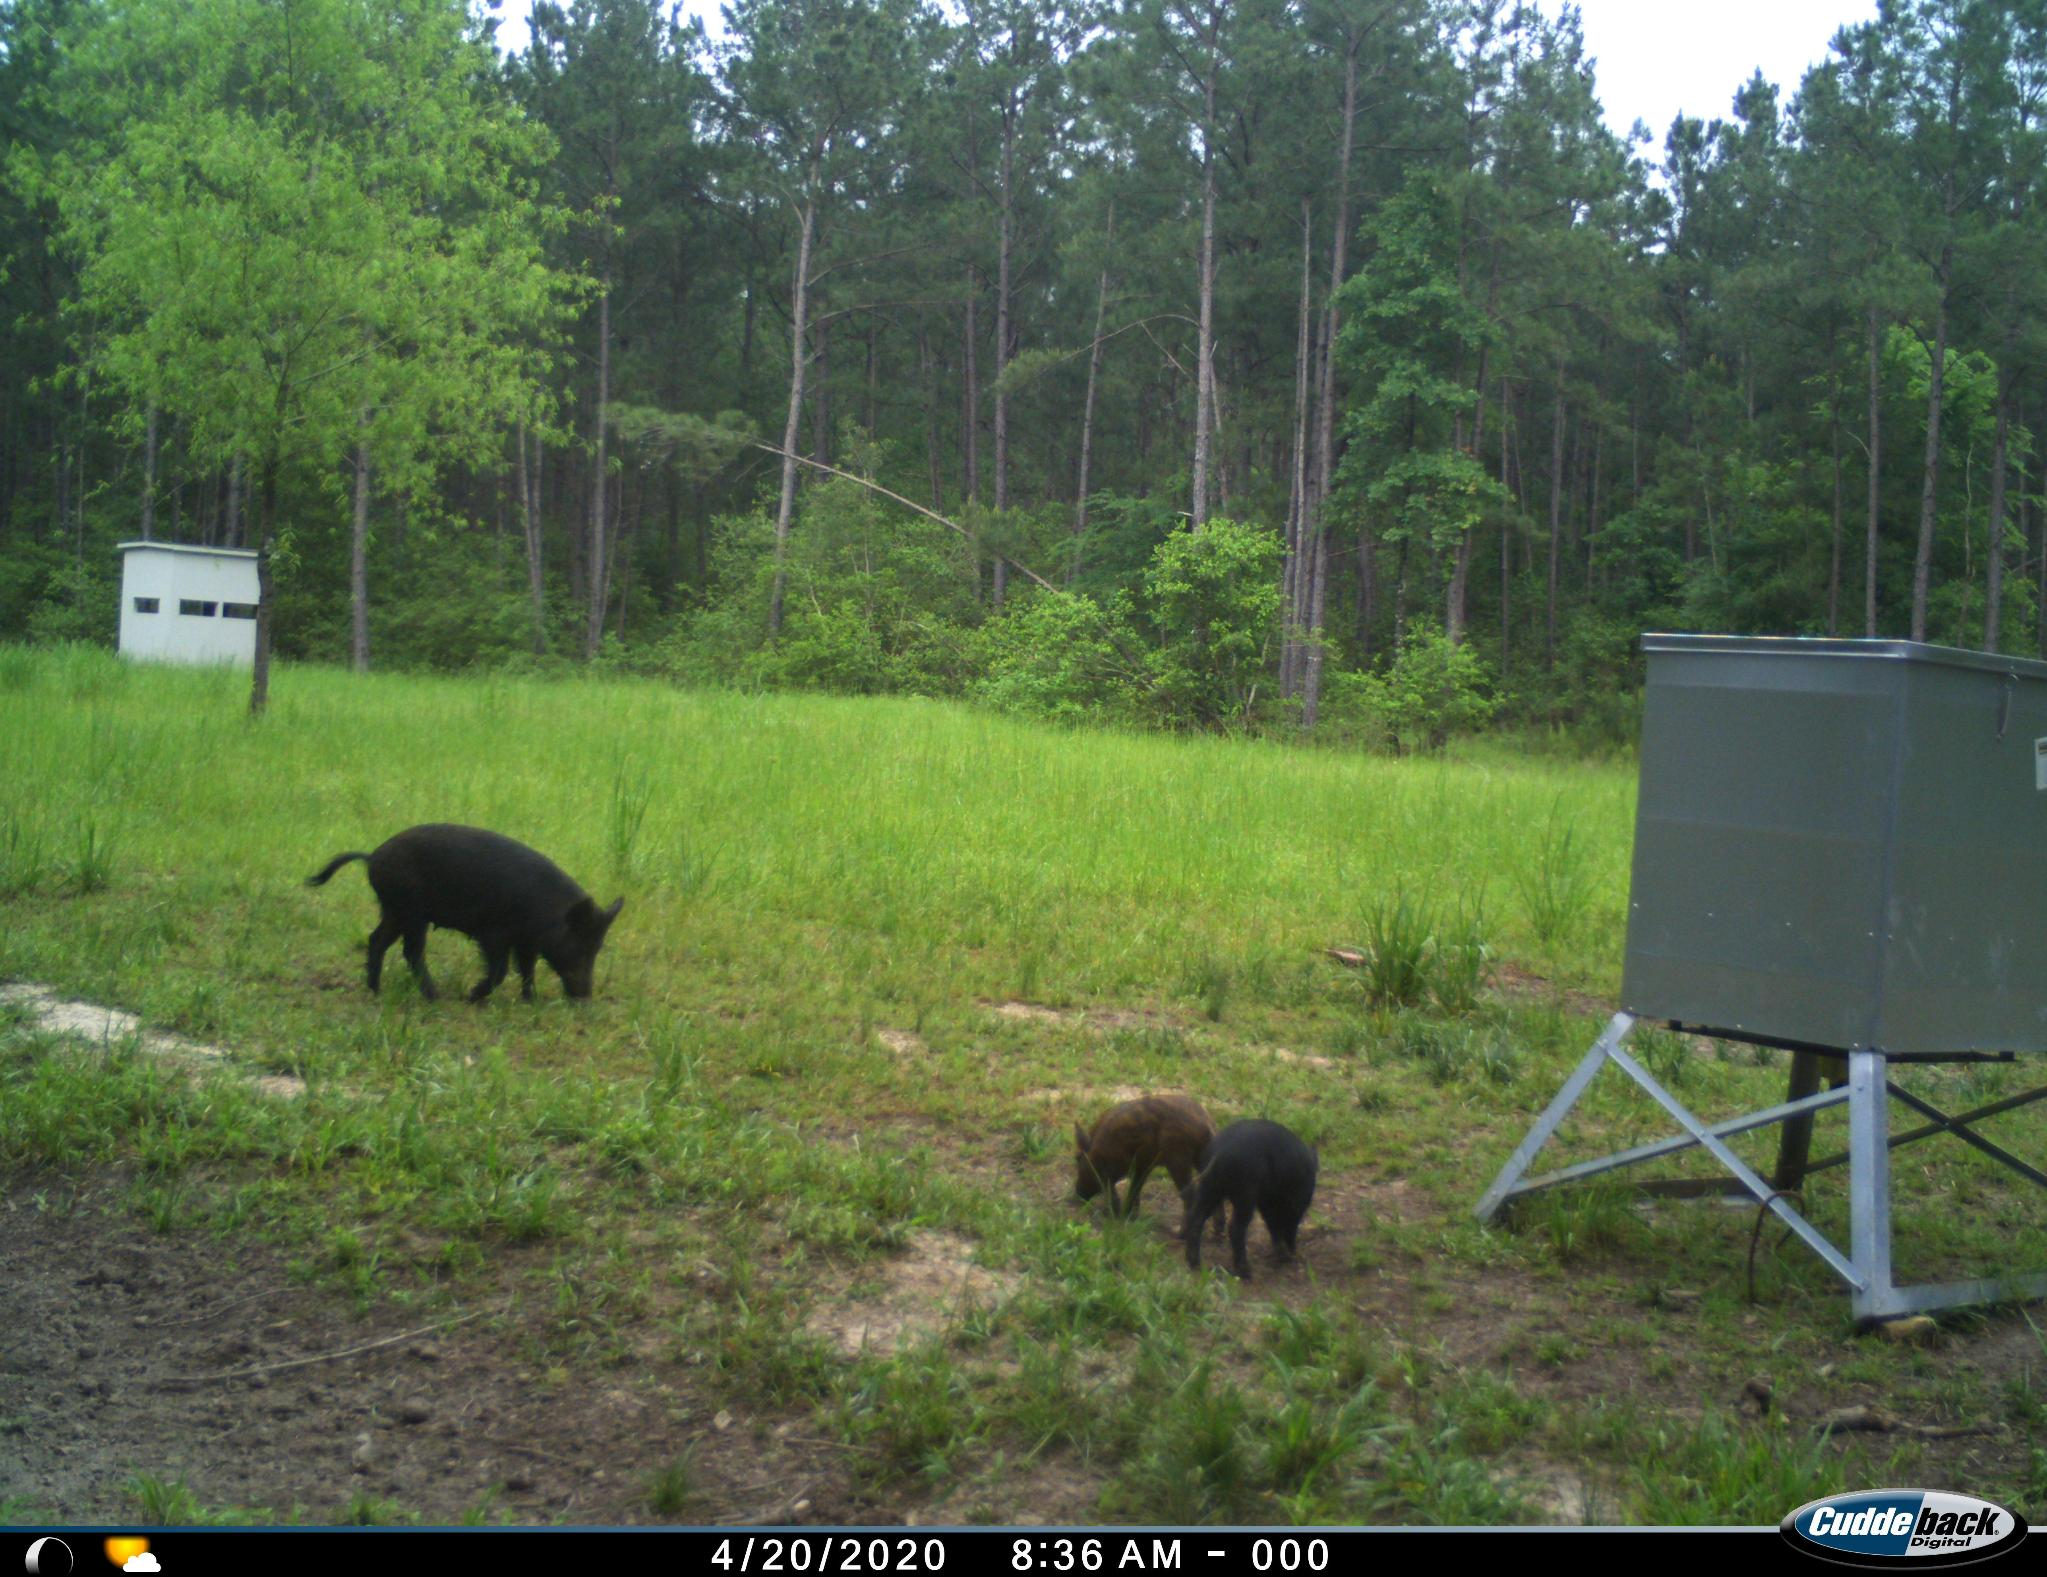Hog: (305, 817, 634, 1014), (1181, 1115, 1322, 1282), (1058, 1093, 1212, 1219)
